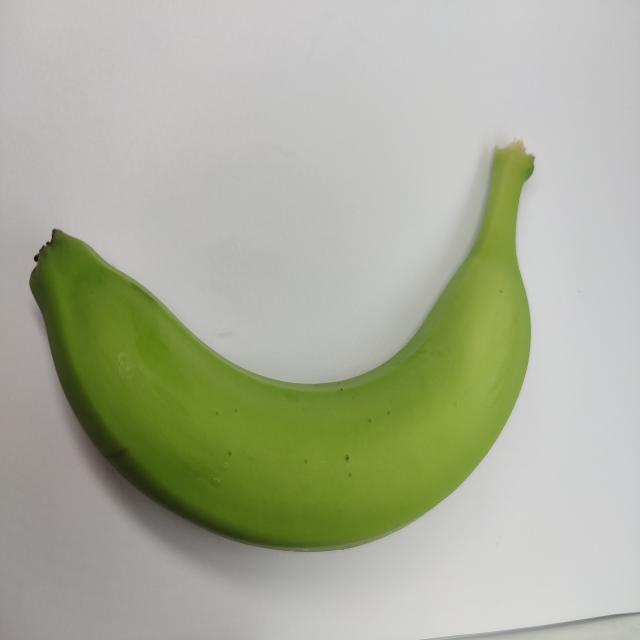raw: (17, 109, 564, 585)
